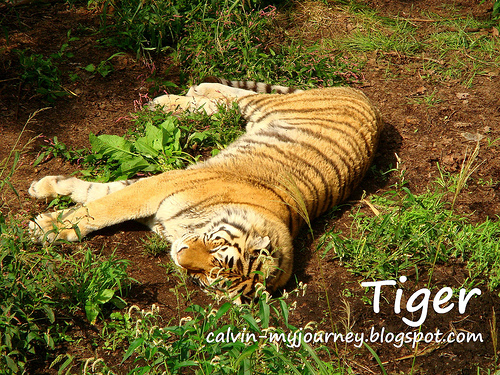Tigre: (107, 67, 389, 301)
